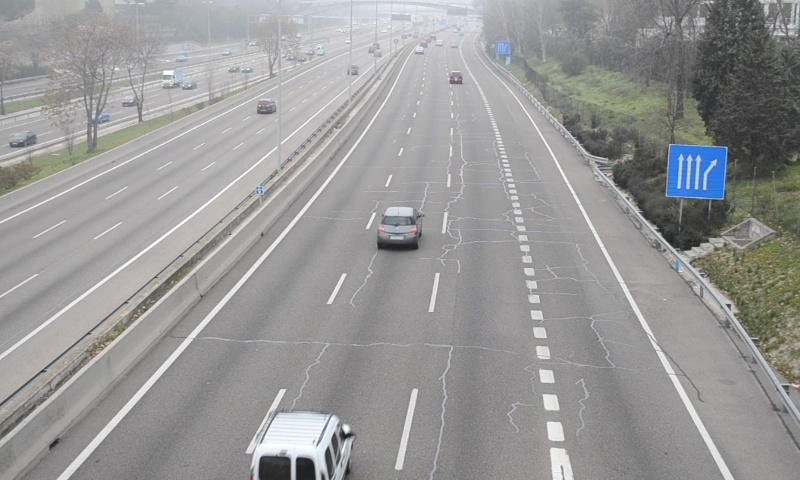car: (377, 206, 419, 246), (448, 70, 463, 86)
van: (248, 410, 354, 480)
